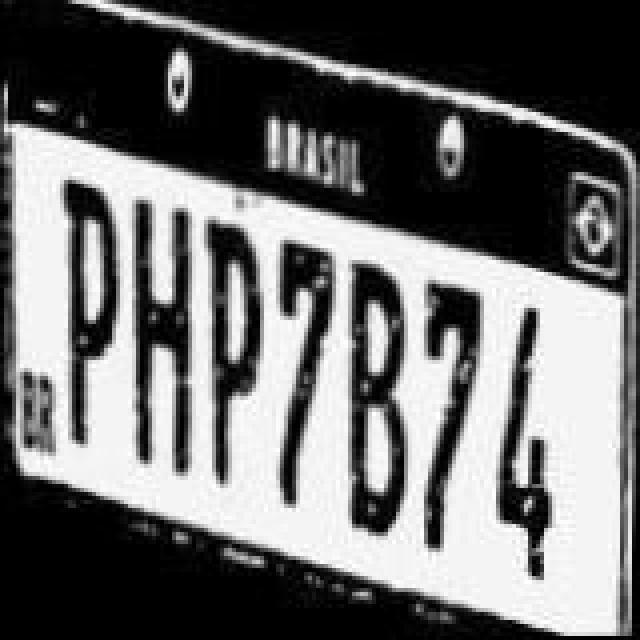4: (494, 306, 554, 582)
7: (422, 280, 482, 552), (276, 240, 336, 508)
B: (348, 262, 412, 538)
H: (126, 202, 198, 482)
P: (58, 180, 122, 452), (202, 218, 266, 486)
